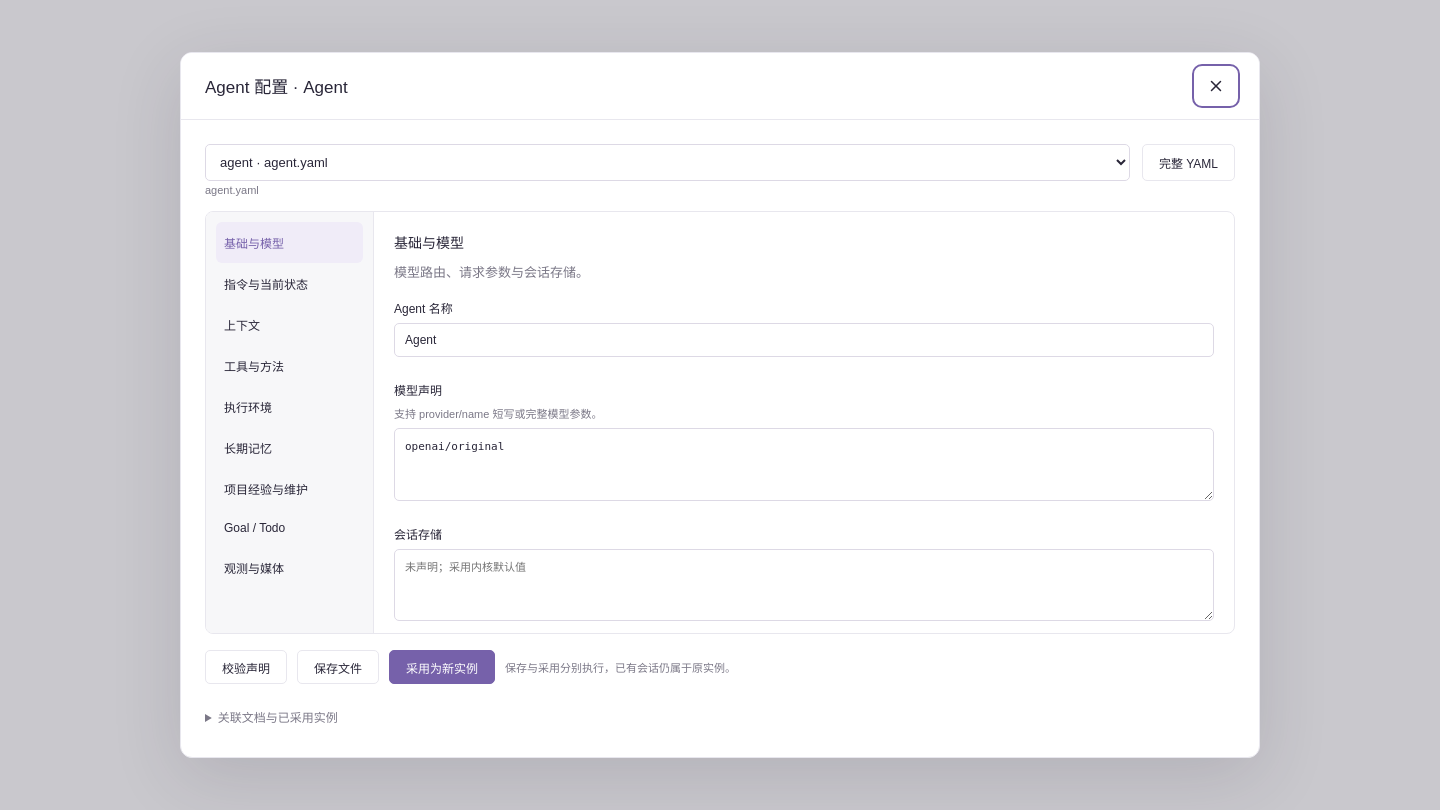
Test case: config actions consume the latest field edit › preserves an invalid YAML field and does not save its previous valid value
The width and height of the screenshot is (1440, 810).
Replace the text in the text box labelled "模型声明" with "provider: [ [unfinished" at [804, 464], box top-left (394, 428), bottom-right (1214, 501)
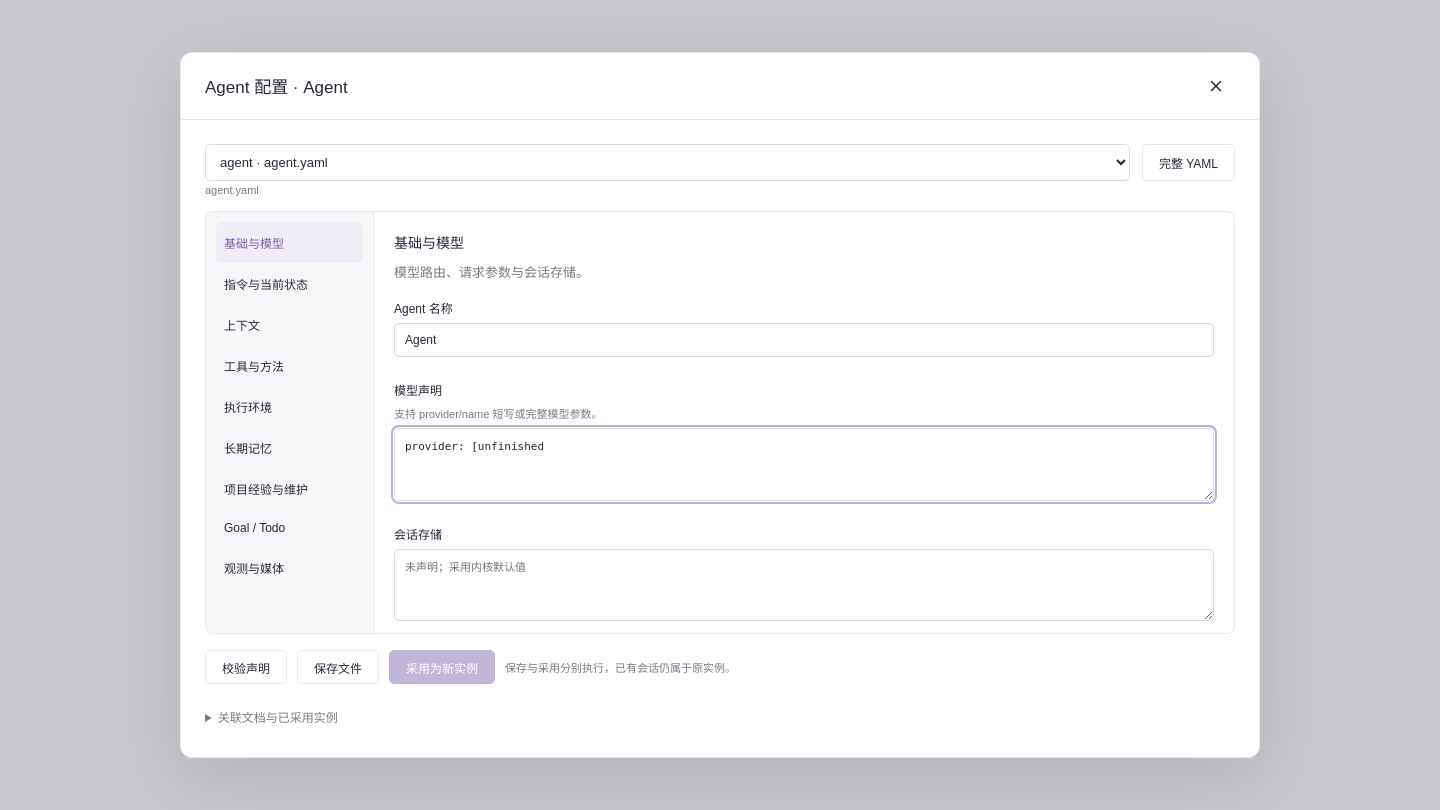
Click the button "保存文件" at [338, 667], box top-left (297, 650), bottom-right (379, 684)
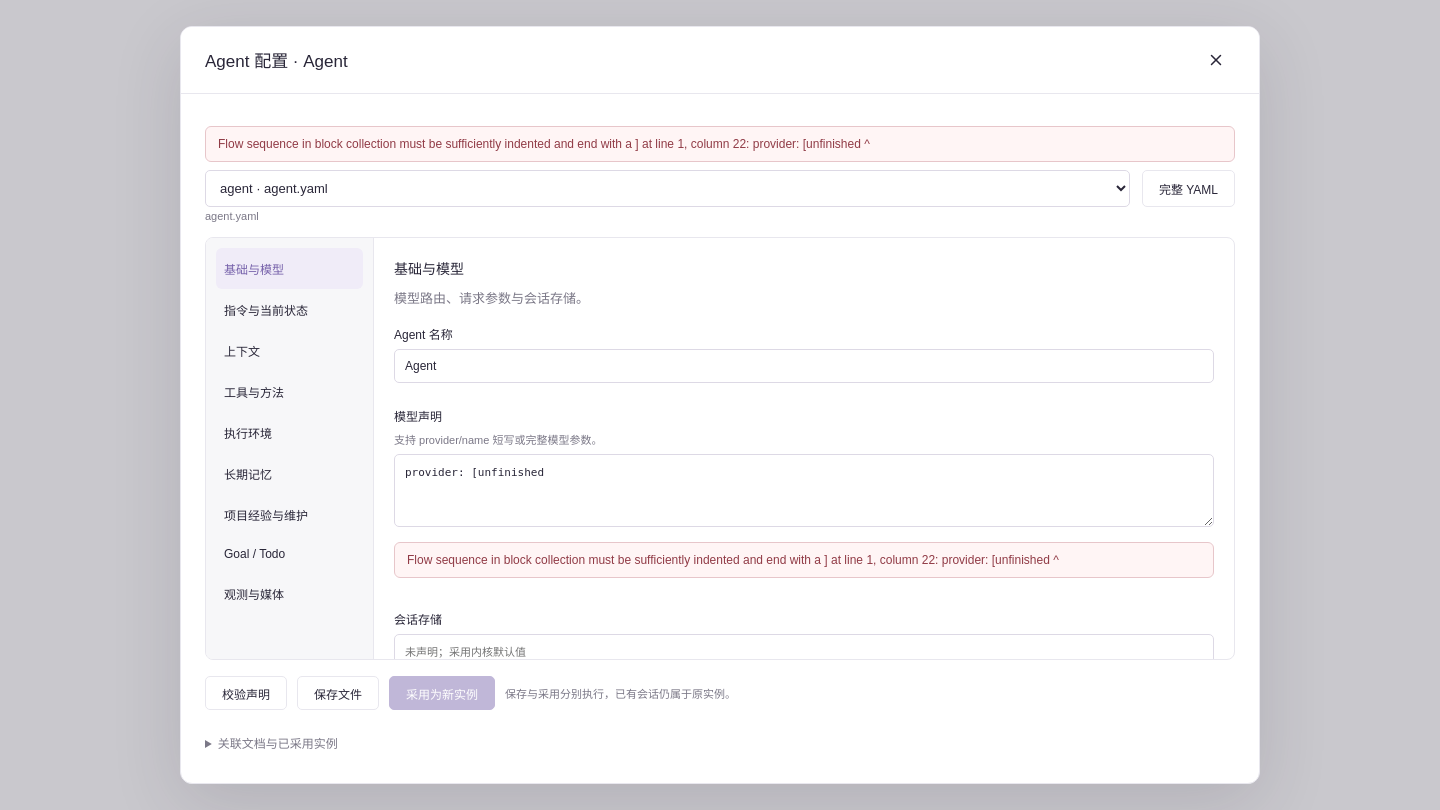
Expected: the text box labelled "模型声明" holds "provider: [unfinished", top-left (394, 454), bottom-right (1214, 527)
Expected: the 1st message is shown, top-left (205, 126), bottom-right (1235, 162)
